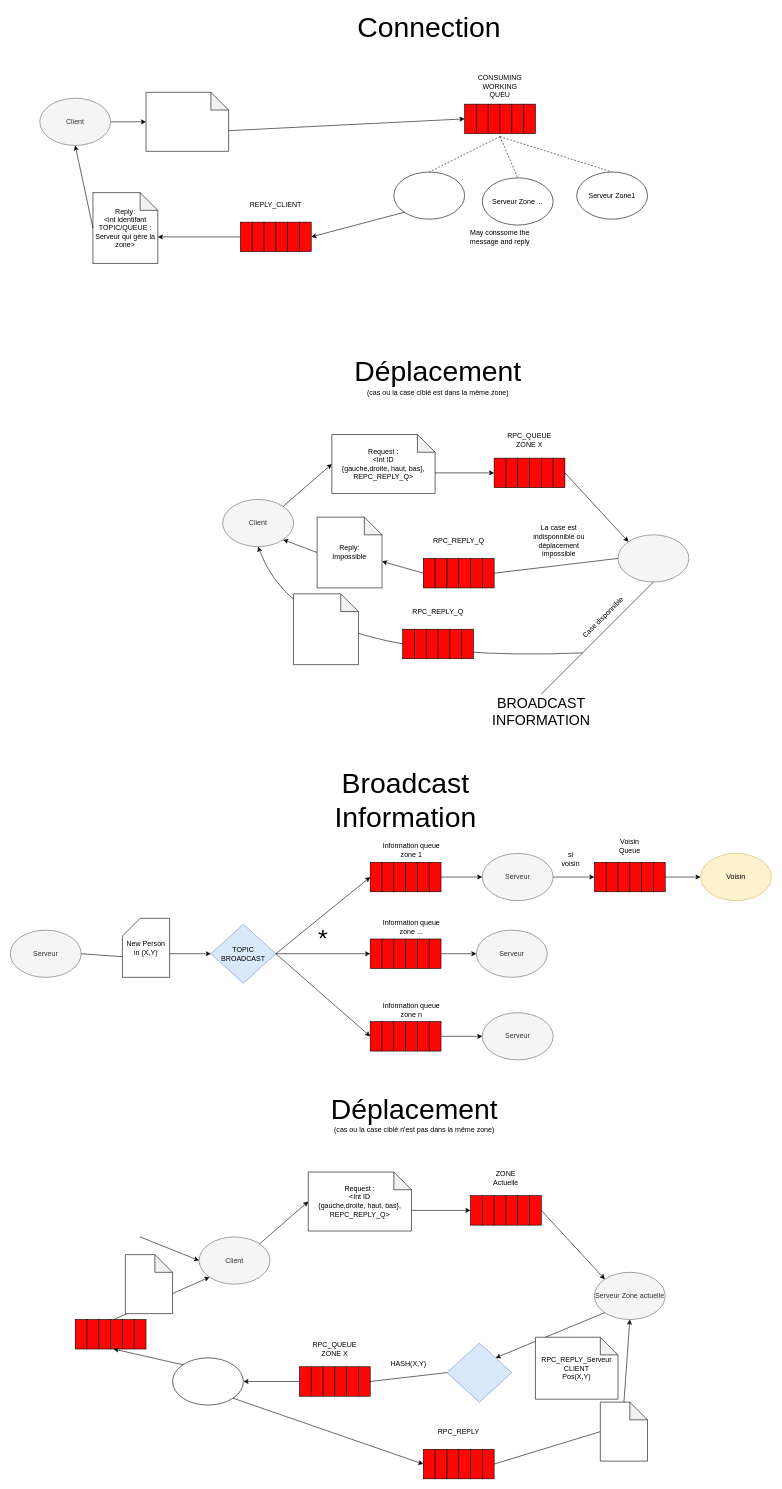
This 782x1489 diagram has some shape labels left out. The shapes that lost their labels are listed below. From the top down, each one's centre as x and y in pixels, then its label:
the point at 187,121: Request : Connec_to_the_game queue : REPLY_CLIENT
the point at 429,195: Serveur Zone N
the point at 653,558: Serveur zone
the point at 325,629: Reply: Déplacement effectué
the point at 149,1284: True/false new Serveur : false / queuServer
the point at 207,1381: Serveur nouvelle Case
the point at 479,1372: TOPIC SERVEURS
the point at 624,1431: ID client Viens chez moi ou pas
